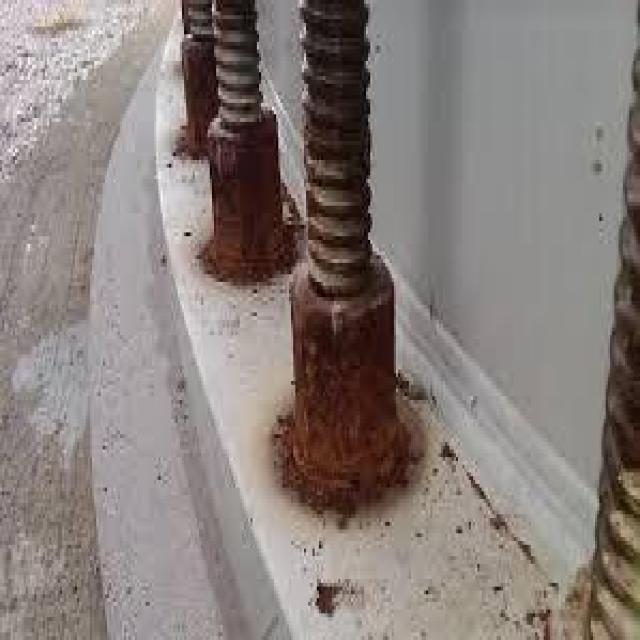non-corrosion: (167, 0, 640, 640)
